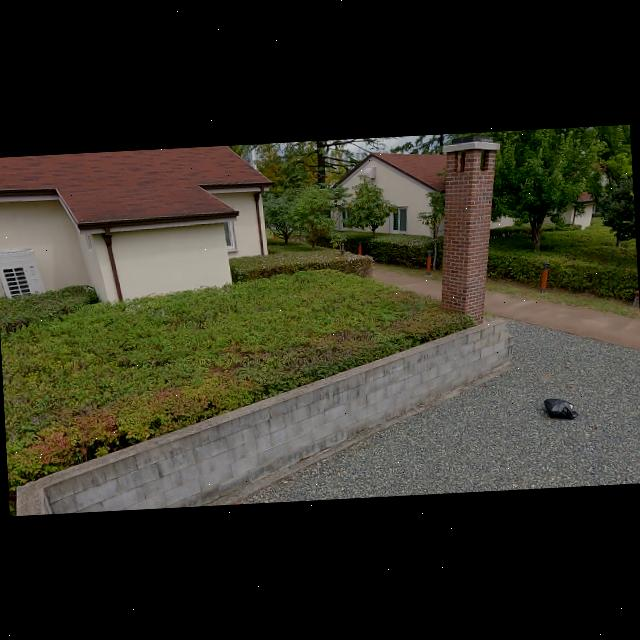trash: (538, 391, 578, 430)
